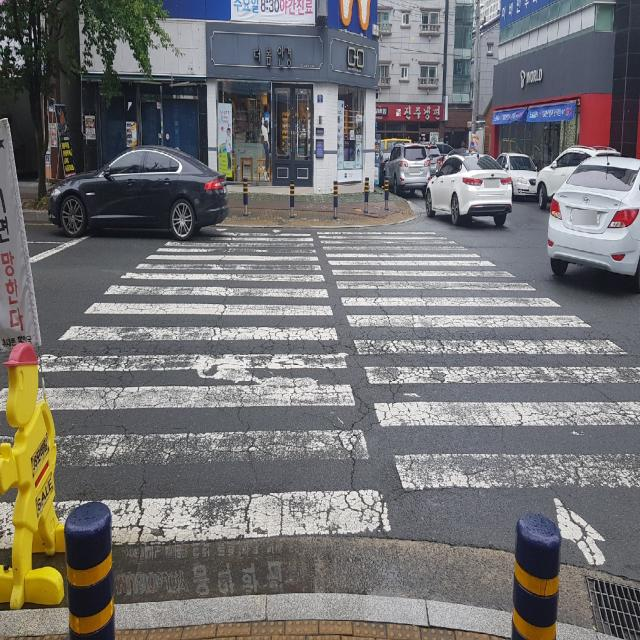횡단보도: (1, 227, 640, 568)
